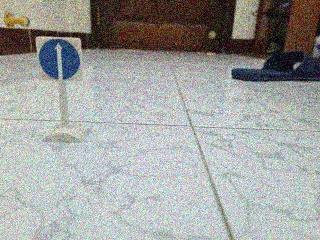straight: (37, 36, 83, 82)
